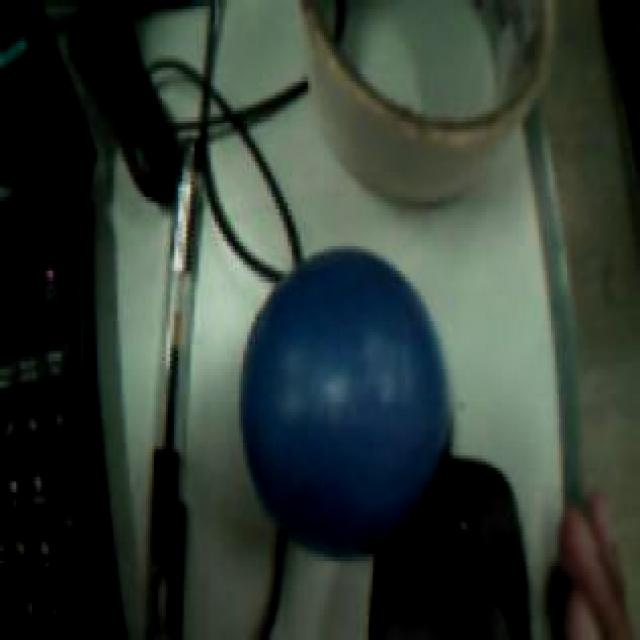BallPurple: (238, 249, 450, 558)
